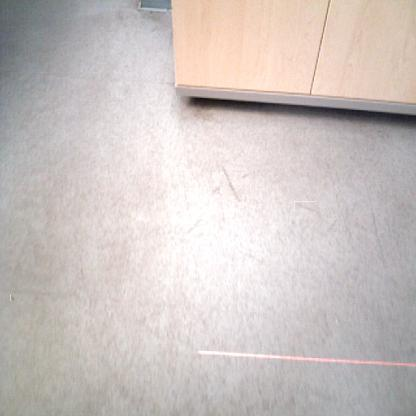mark: (216, 168, 246, 198), (183, 217, 203, 237), (294, 201, 315, 212), (325, 219, 339, 232), (10, 293, 15, 301)
